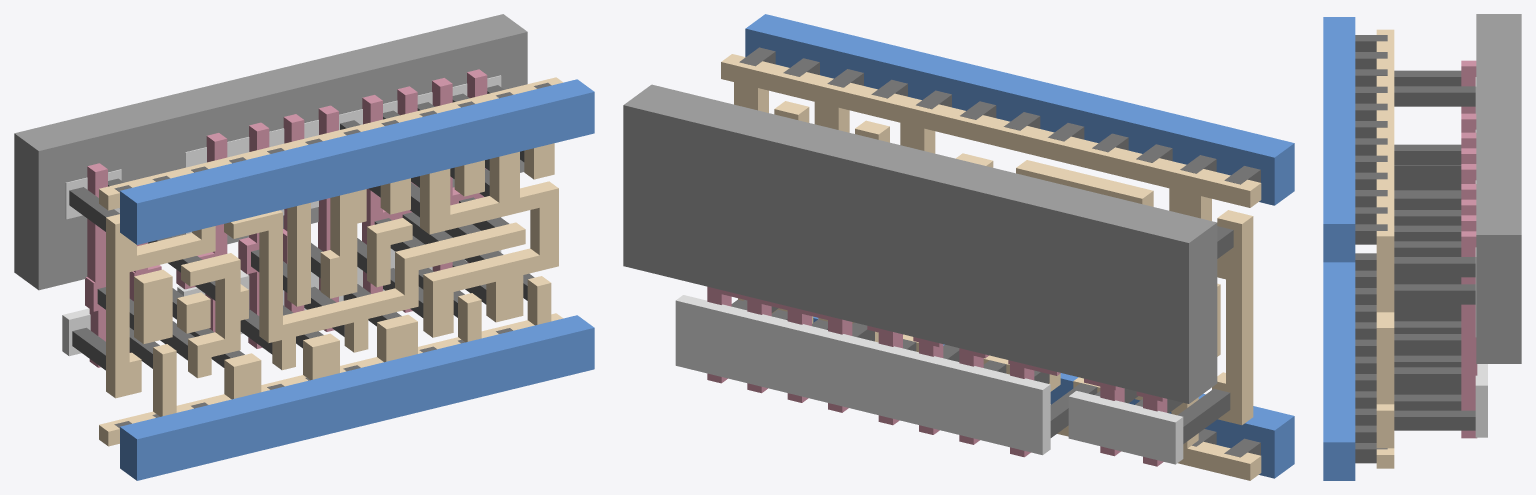
Rendered from sky130_fd_sc_hd__or4bb_4.gds.gltf.
3 views of the same model, side by side, from view 1: azimuth 30°, elevation 25°; view 2: azimuth 150°, elevation 25°; view 3: azimuth 270°, elevation 25° (orthographic). The views are drawn at different scales.
Visible parts, largest first — view 1: sky130_fd_sc_hd__or4bb_4_li1, sky130_fd_sc_hd__or4bb_4_met1, sky130_fd_sc_hd__or4bb_4_nwell, sky130_fd_sc_hd__or4bb_4_poly, sky130_fd_sc_hd__or4bb_4_licon, sky130_fd_sc_hd__or4bb_4_diff, sky130_fd_sc_hd__or4bb_4_mcon; view 2: sky130_fd_sc_hd__or4bb_4_nwell, sky130_fd_sc_hd__or4bb_4_diff, sky130_fd_sc_hd__or4bb_4_li1, sky130_fd_sc_hd__or4bb_4_met1, sky130_fd_sc_hd__or4bb_4_mcon, sky130_fd_sc_hd__or4bb_4_poly, sky130_fd_sc_hd__or4bb_4_licon; view 3: sky130_fd_sc_hd__or4bb_4_licon, sky130_fd_sc_hd__or4bb_4_nwell, sky130_fd_sc_hd__or4bb_4_met1, sky130_fd_sc_hd__or4bb_4_mcon, sky130_fd_sc_hd__or4bb_4_li1, sky130_fd_sc_hd__or4bb_4_poly, sky130_fd_sc_hd__or4bb_4_diff.
Boxes of the visible parts, box(x1,y1,x2,y2) form: sky130_fd_sc_hd__or4bb_4_li1: box(99, 77, 563, 446); sky130_fd_sc_hd__or4bb_4_met1: box(120, 79, 594, 480); sky130_fd_sc_hd__or4bb_4_nwell: box(14, 14, 527, 290); sky130_fd_sc_hd__or4bb_4_poly: box(85, 69, 487, 367); sky130_fd_sc_hd__or4bb_4_licon: box(69, 85, 534, 370); sky130_fd_sc_hd__or4bb_4_diff: box(62, 75, 501, 356); sky130_fd_sc_hd__or4bb_4_mcon: box(114, 82, 551, 428); sky130_fd_sc_hd__or4bb_4_nwell: box(623, 84, 1217, 403); sky130_fd_sc_hd__or4bb_4_diff: box(675, 295, 1183, 464); sky130_fd_sc_hd__or4bb_4_li1: box(721, 54, 1261, 480); sky130_fd_sc_hd__or4bb_4_met1: box(745, 14, 1294, 478); sky130_fd_sc_hd__or4bb_4_mcon: box(739, 47, 1260, 457); sky130_fd_sc_hd__or4bb_4_poly: box(707, 286, 1167, 466); sky130_fd_sc_hd__or4bb_4_licon: box(731, 226, 1233, 443); sky130_fd_sc_hd__or4bb_4_licon: box(1394, 70, 1475, 430); sky130_fd_sc_hd__or4bb_4_nwell: box(1476, 14, 1521, 363); sky130_fd_sc_hd__or4bb_4_met1: box(1323, 17, 1355, 480); sky130_fd_sc_hd__or4bb_4_mcon: box(1355, 35, 1387, 463); sky130_fd_sc_hd__or4bb_4_li1: box(1376, 29, 1394, 468); sky130_fd_sc_hd__or4bb_4_poly: box(1461, 60, 1477, 438); sky130_fd_sc_hd__or4bb_4_diff: box(1475, 77, 1487, 437).
Bounding box in the file's own units: 5.9 × 3.2 × 2.24.
